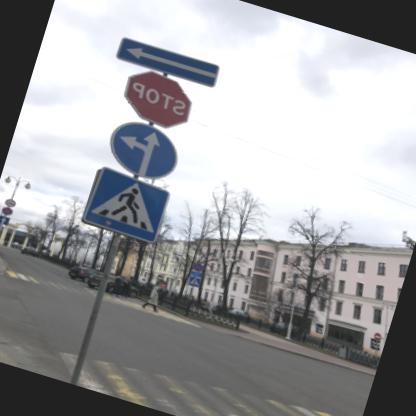crosswalk: (82, 162, 173, 242), (189, 275, 201, 287)
stop: (119, 64, 204, 132)
